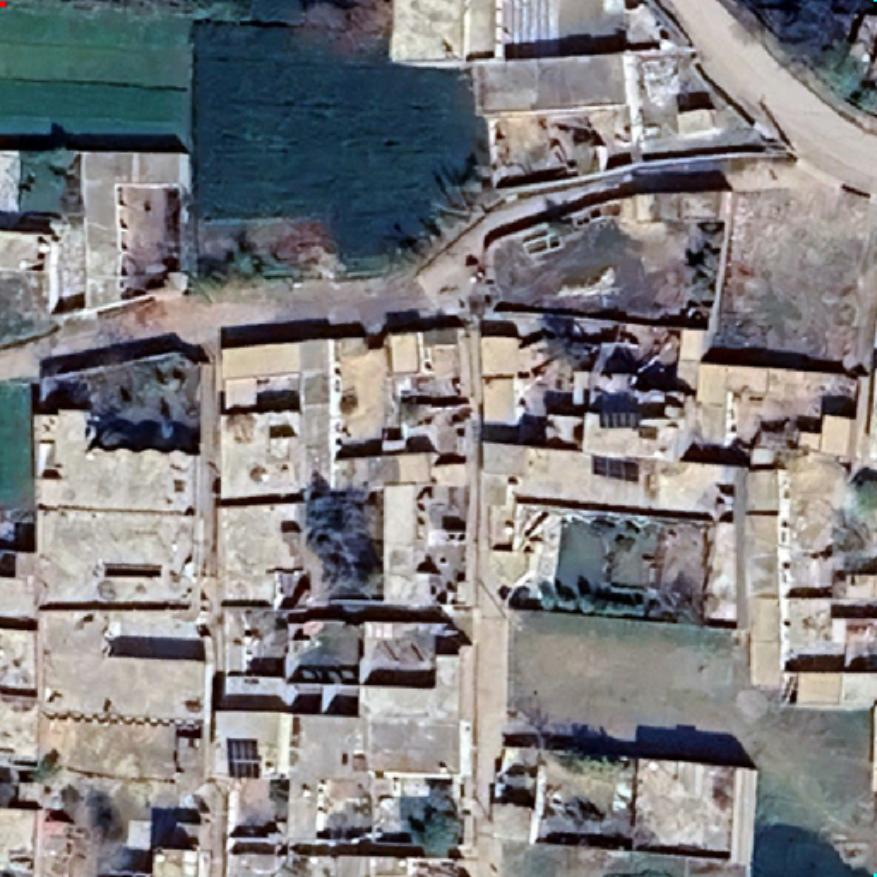Solarpanel: (222, 734, 266, 782), (588, 450, 644, 486), (595, 407, 645, 431)
